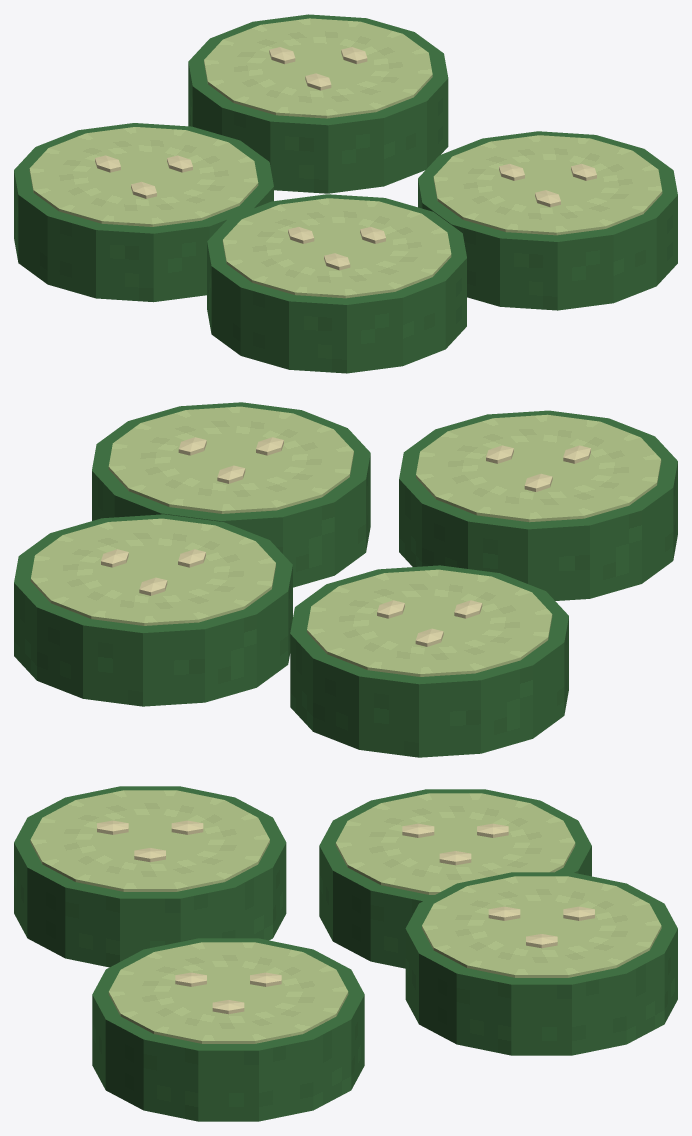
The model's file is gherkin_cut.glb.
3 views of the same model, one above another, from view 1: azimuth 30°, elevation 25°; view 2: azimuth 150°, elevation 25°; view 3: azimuth 270°, elevation 25° (orthographic). The views are drawn at different scales.
Parts seen in each view (by area): view 1: block_thin dark-green skin (×4), block_pale green cucumber section (×4); view 2: block_thin dark-green skin (×4), block_pale green cucumber section (×4); view 3: block_thin dark-green skin (×4), block_pale green cucumber section (×4).
Part boxes in pixels (box(x1,y1,x2,y2)): block_thin dark-green skin (×4): box(14, 14, 677, 373); block_pale green cucumber section (×4): box(29, 18, 662, 298); block_thin dark-green skin (×4): box(14, 402, 677, 757); block_pale green cucumber section (×4): box(30, 406, 661, 676); block_thin dark-green skin (×4): box(14, 786, 677, 1121); block_pale green cucumber section (×4): box(30, 790, 661, 1043).
Bounding box in the file's own units: 0.0931 × 0.0177 × 0.1.
1 material, 1 textured.
